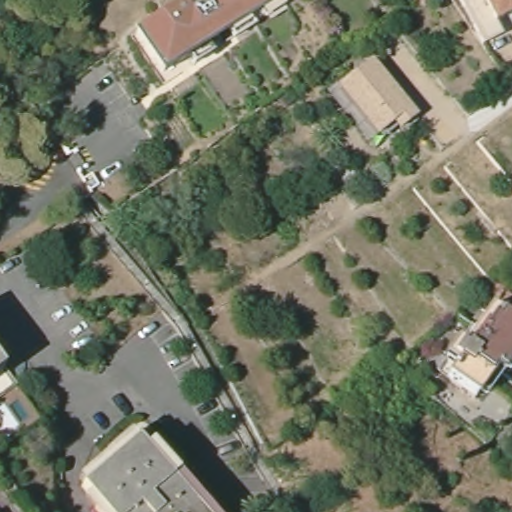pool: (9, 398, 32, 425)
